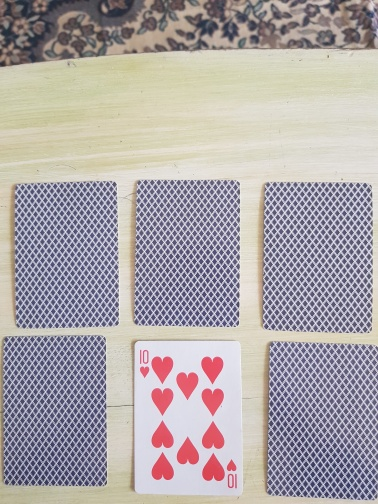ten: (132, 340, 244, 497)
